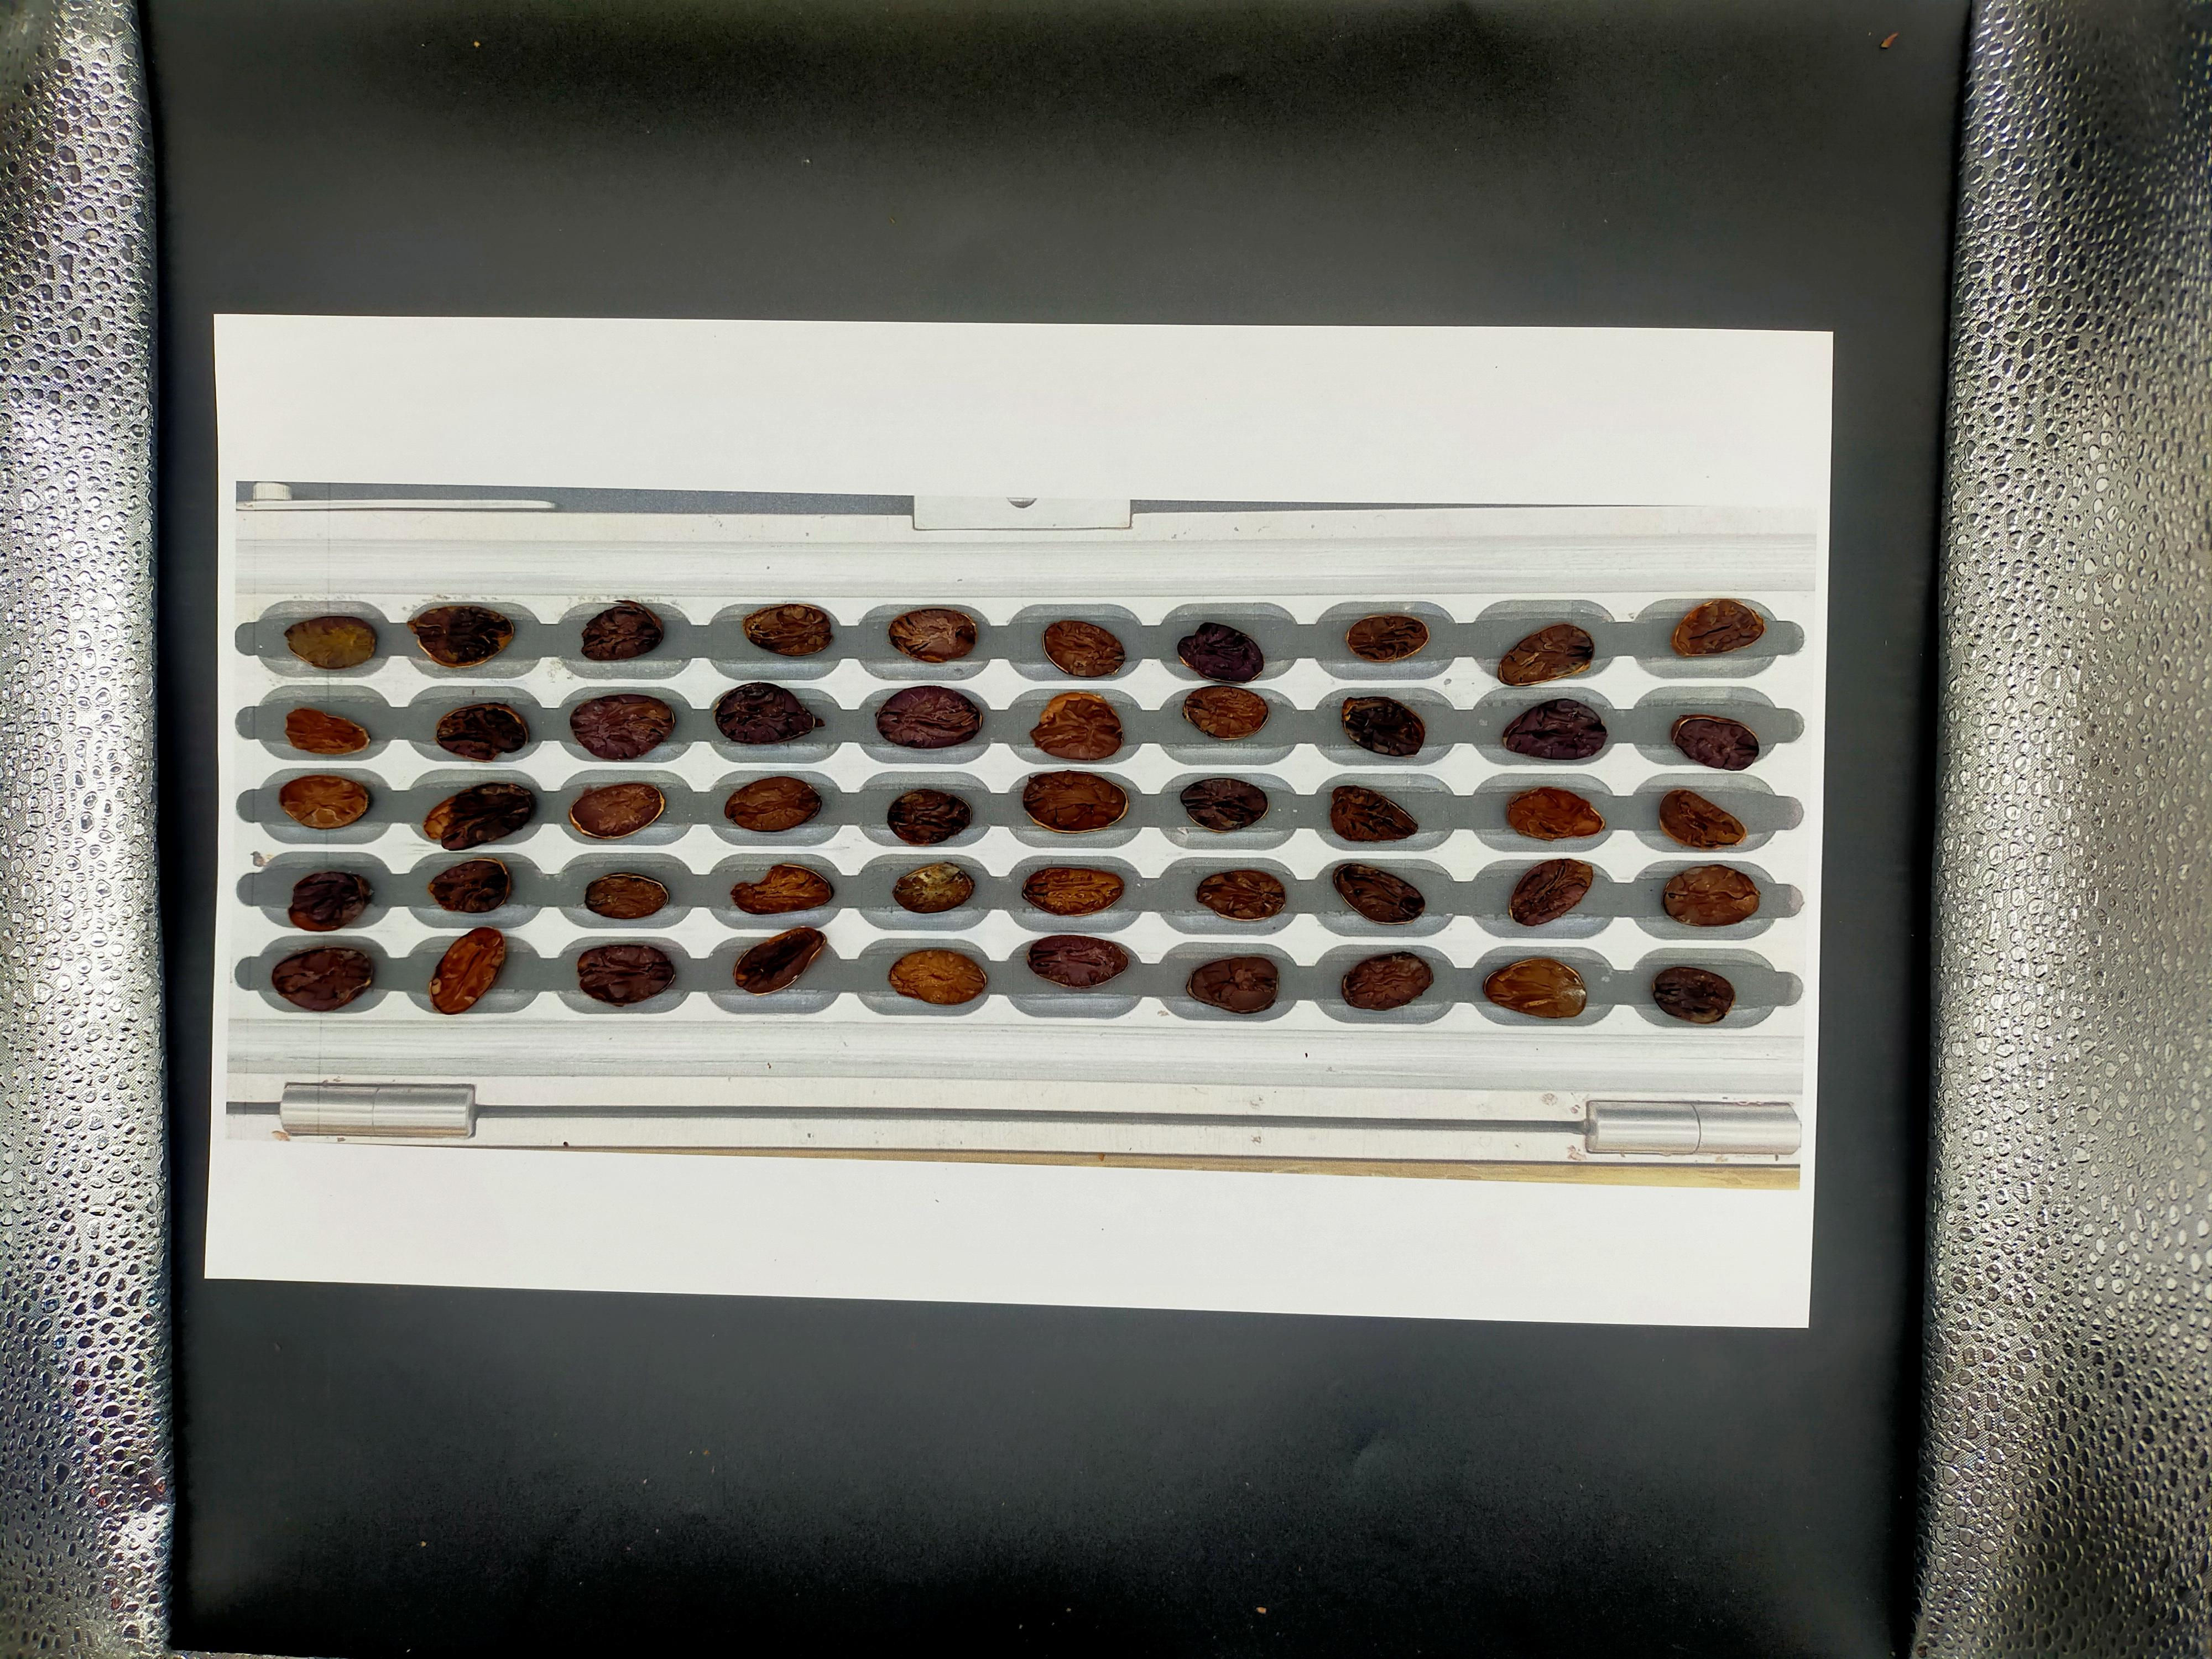Brown - G1: (1298, 1281, 1343, 1333), (1606, 1164, 1658, 1204), (1689, 1251, 1743, 1286), (1460, 1117, 1508, 1152), (1221, 1169, 1273, 1201)
Brown - G2: (1609, 1121, 1660, 1162), (1601, 1249, 1660, 1283), (1844, 1209, 1904, 1243), (1933, 1114, 1986, 1150), (1219, 1206, 1273, 1241), (1453, 1249, 1510, 1281), (1759, 1209, 1811, 1243)
Brown - G3: (1601, 1204, 1660, 1241), (1764, 1293, 1818, 1331), (1844, 1126, 1898, 1164), (1928, 1251, 1984, 1288), (1449, 1204, 1503, 1239), (1925, 1211, 1975, 1248), (1533, 1295, 1587, 1328), (1850, 1249, 1898, 1286), (1531, 1119, 1581, 1154), (1683, 1161, 1733, 1192)
Brown - G4: (1376, 1255, 1425, 1284)
Insect-damaged: (1224, 1122, 1277, 1157)
Mouldy: (1838, 1297, 1900, 1335), (1534, 1249, 1581, 1281)
Partly Purple - G1: (1299, 1168, 1352, 1204), (1296, 1248, 1348, 1281)
Partly Purple - G2: (1371, 1164, 1428, 1204), (1372, 1291, 1430, 1328)
Partly Purple - G3: (1602, 1286, 1662, 1323)
Partly Purple - G4: (1371, 1208, 1423, 1243)
Total Purple - G3: (1444, 1157, 1505, 1195), (1526, 1161, 1587, 1197), (1679, 1126, 1730, 1161), (1933, 1173, 1982, 1208)
Very Dark Brown - G1: (1294, 1208, 1359, 1248), (1287, 1115, 1348, 1155), (1224, 1251, 1275, 1290), (1768, 1121, 1815, 1152)
Very Dark Brown - G2: (1217, 1291, 1275, 1331), (1844, 1166, 1907, 1202), (1453, 1283, 1507, 1324), (1921, 1300, 1973, 1338), (1763, 1164, 1815, 1201), (1374, 1115, 1425, 1152), (1531, 1211, 1580, 1244)
Very Dark Brown - G3: (1684, 1295, 1742, 1333), (1761, 1249, 1813, 1288), (1683, 1206, 1733, 1239)
